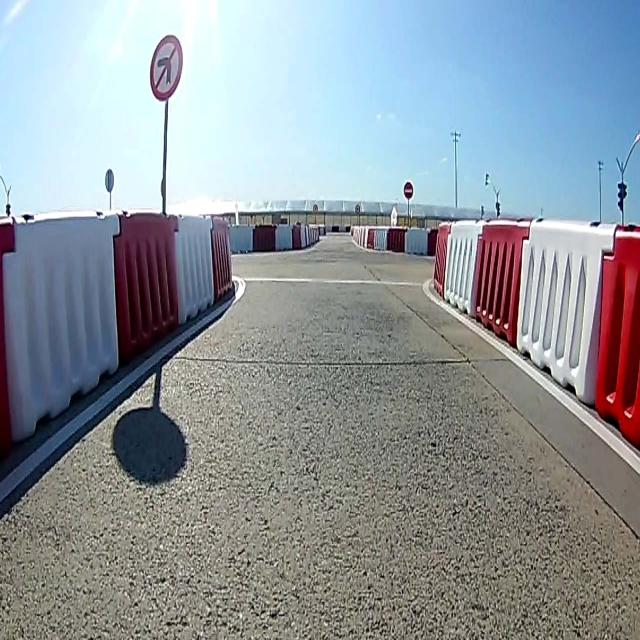girisyok: (402, 177, 417, 203)
soladonulmez: (148, 30, 184, 103)
